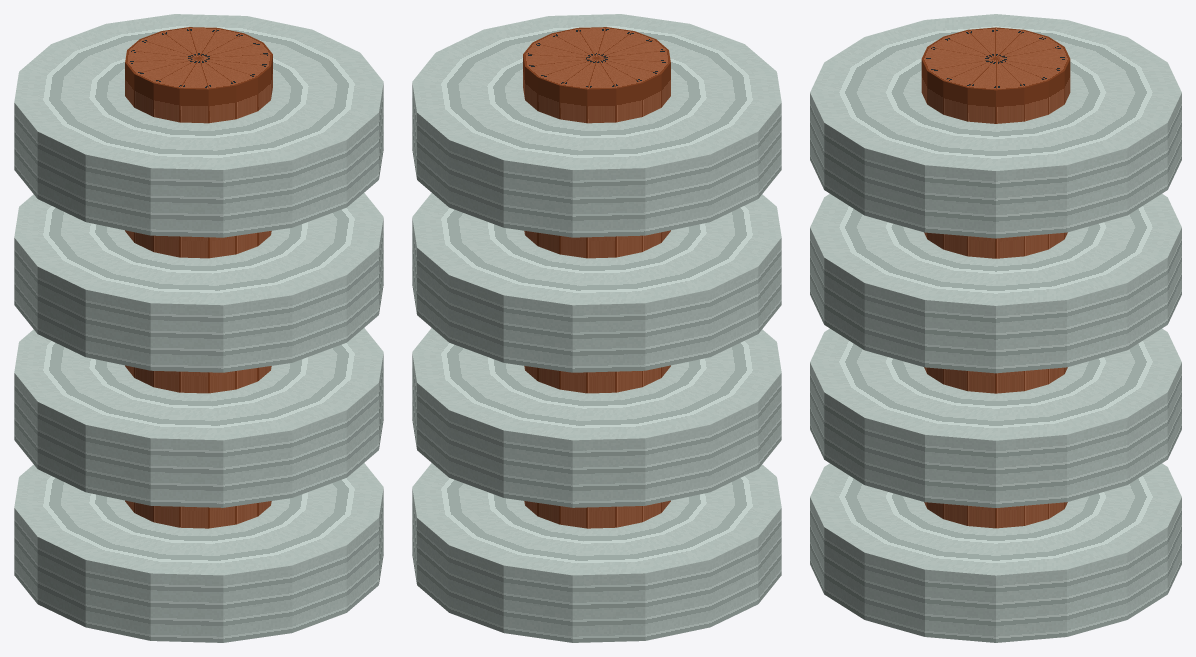
The model's file is detail_insulator.obj.
The picture shows the model from 3 angles, left to right: view 1: azimuth 30°, elevation 25°; view 2: azimuth 150°, elevation 25°; view 3: azimuth 270°, elevation 25°; orthographic projection.
Bounding box in the file's own units: 0.625 × 1 × 0.625.
